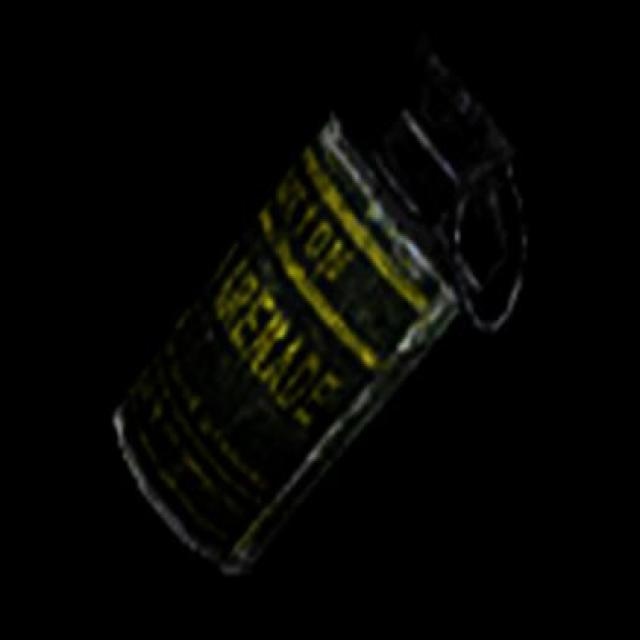grenade: (115, 37, 530, 577)
